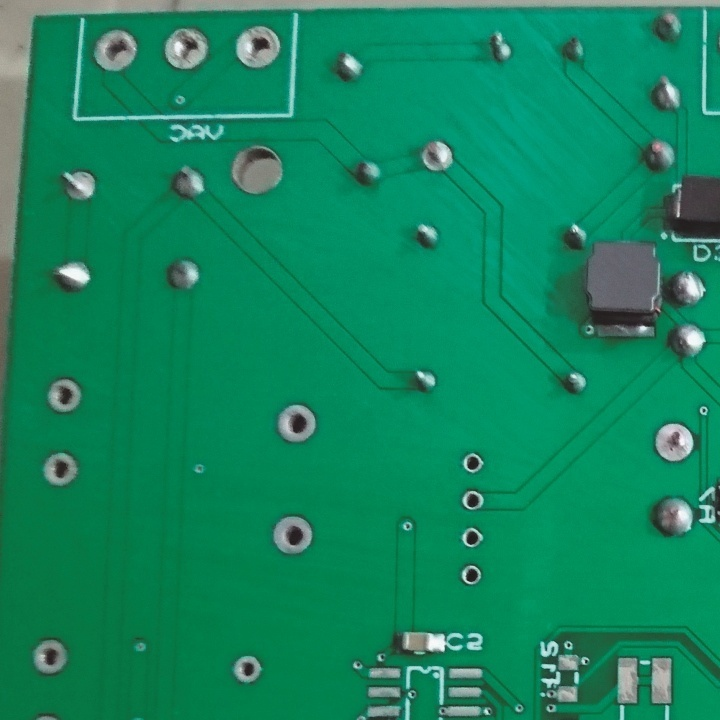F: (230, 21, 287, 78), (87, 26, 142, 77), (160, 24, 213, 75), (273, 399, 321, 447), (266, 512, 315, 557), (652, 418, 700, 463), (56, 165, 101, 206), (39, 452, 84, 492), (30, 634, 69, 677), (43, 378, 85, 416), (418, 138, 455, 179), (230, 655, 265, 686), (455, 560, 483, 589), (459, 525, 484, 552), (461, 453, 487, 478), (461, 490, 487, 512)
